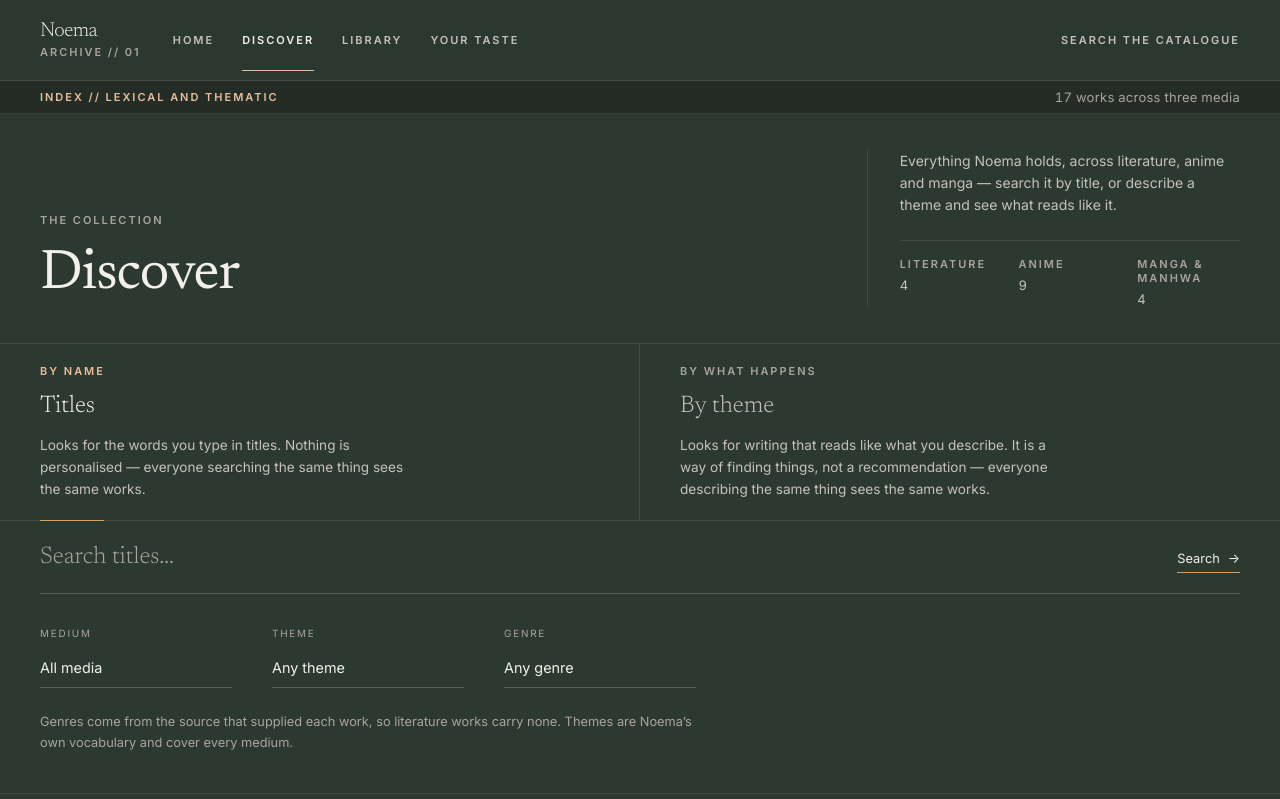
Discover › returns works rather than a list of repeated passages
This screenshot has width=1280, height=799.
Click the button "By theme": point(748, 371) [640,344,1240,520]
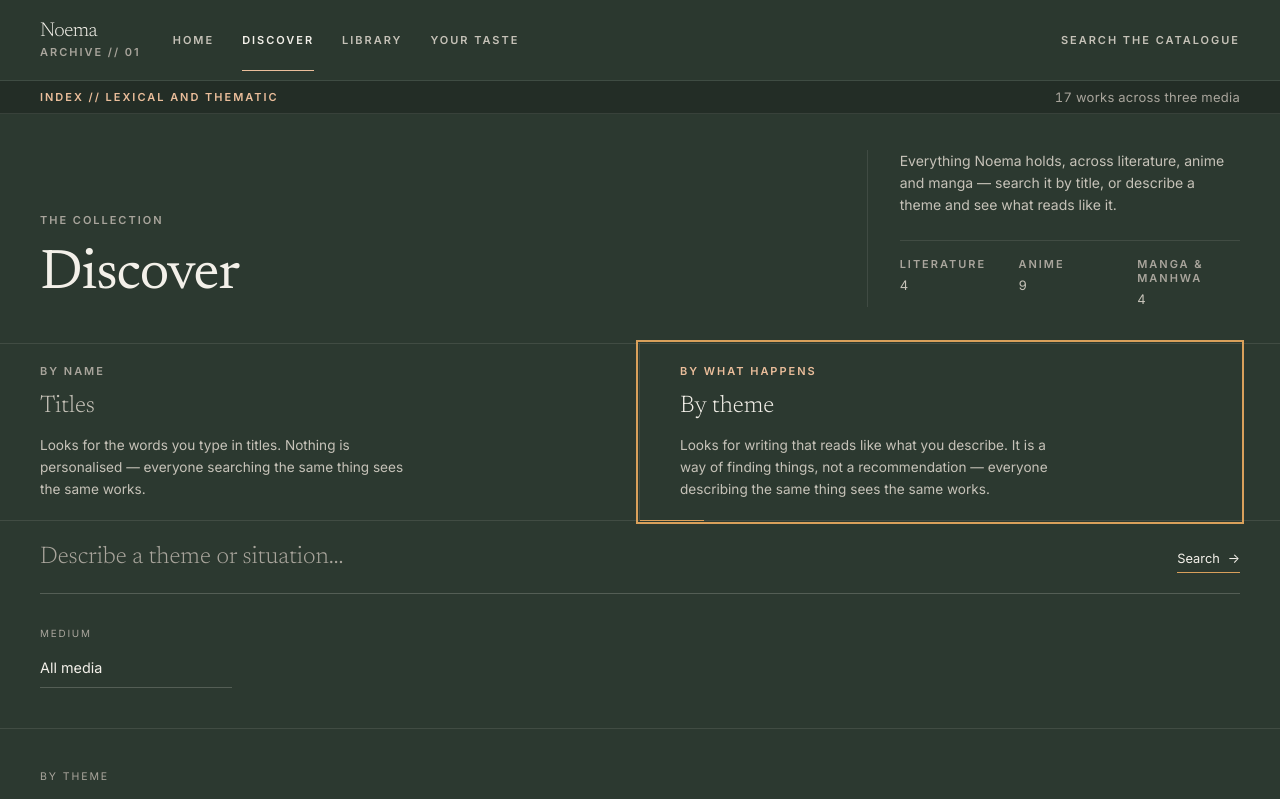
In the search field labelled "Describe a theme": point(597, 557) [40,541,1153,573], type "isolation"
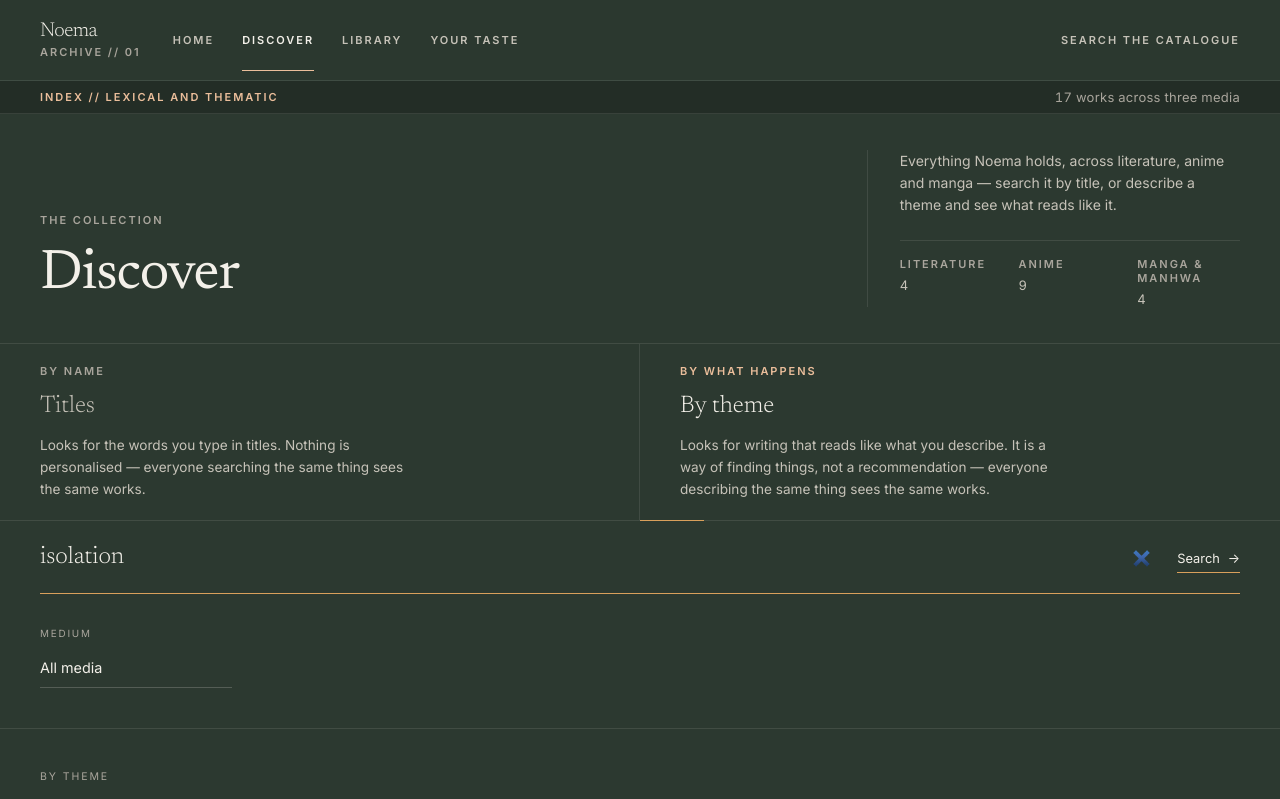
Click the button "Search →": point(1209, 561) [1177,549,1240,573]
(page scrolled)
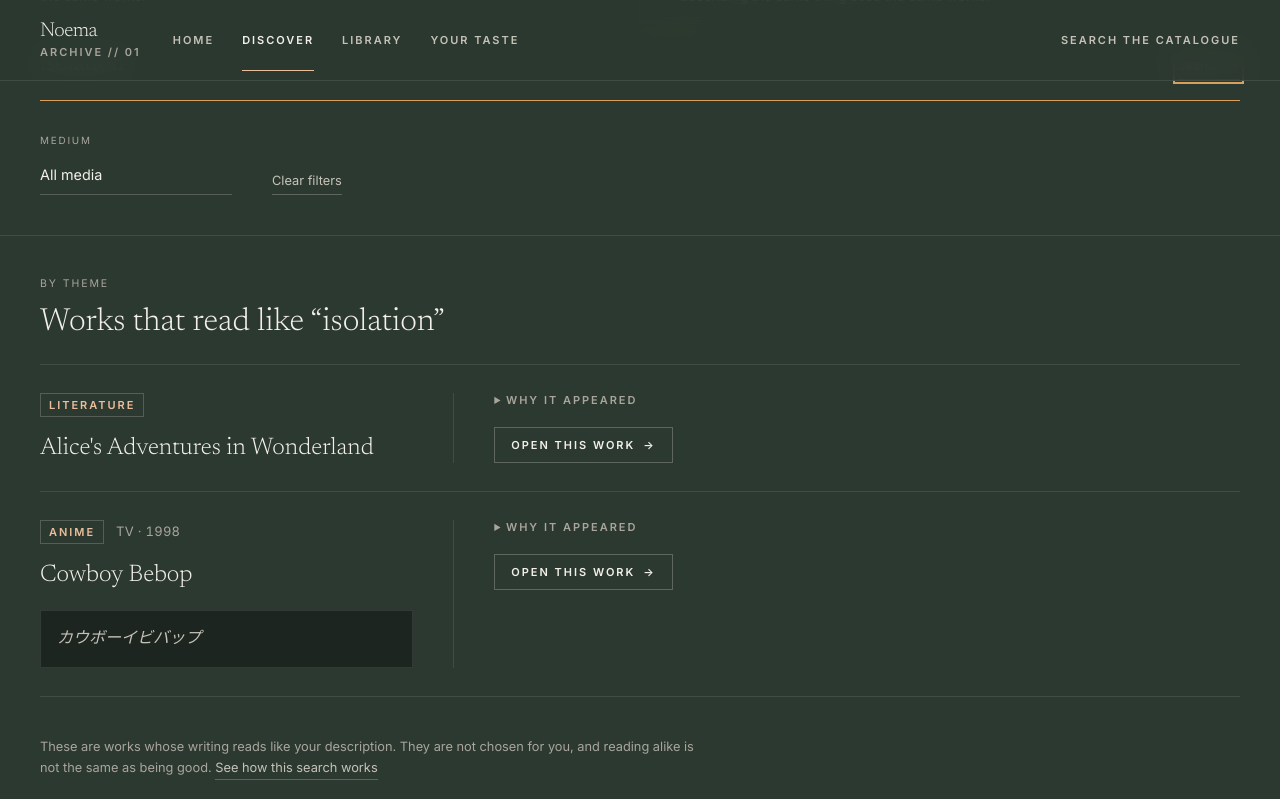
Check: the heading "Works that read like “isolation”" is shown, box [40,304,445,340]
Check: the number of buttons "Alice's Adventures in Wonderland" is 1, box [40,433,374,463]
Check: the 1st text "Alice was beginning to get very tired of sitting" is shown, box [506,393,638,407]
